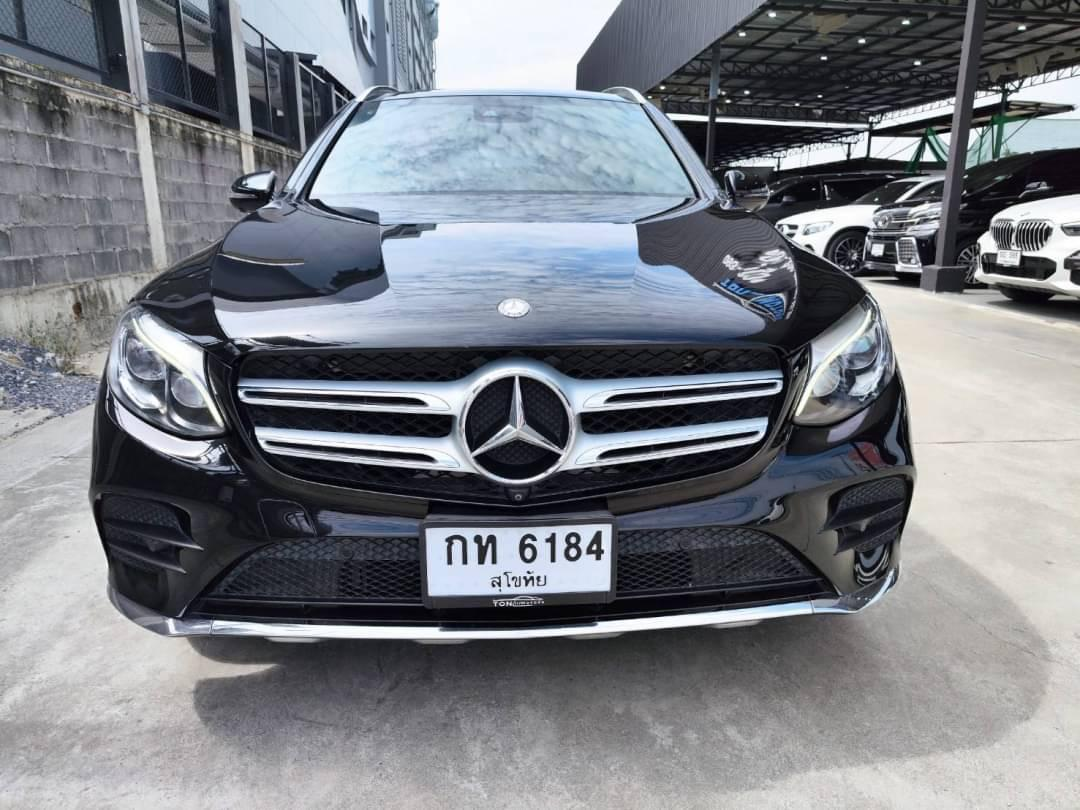license-plate: (408, 509, 635, 620)
